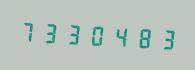eight: (132, 21, 154, 52)
four: (109, 20, 131, 51)
seven: (17, 15, 39, 46)
three: (40, 17, 62, 48), (63, 18, 85, 49), (155, 23, 177, 54)
zero: (86, 19, 108, 50)
